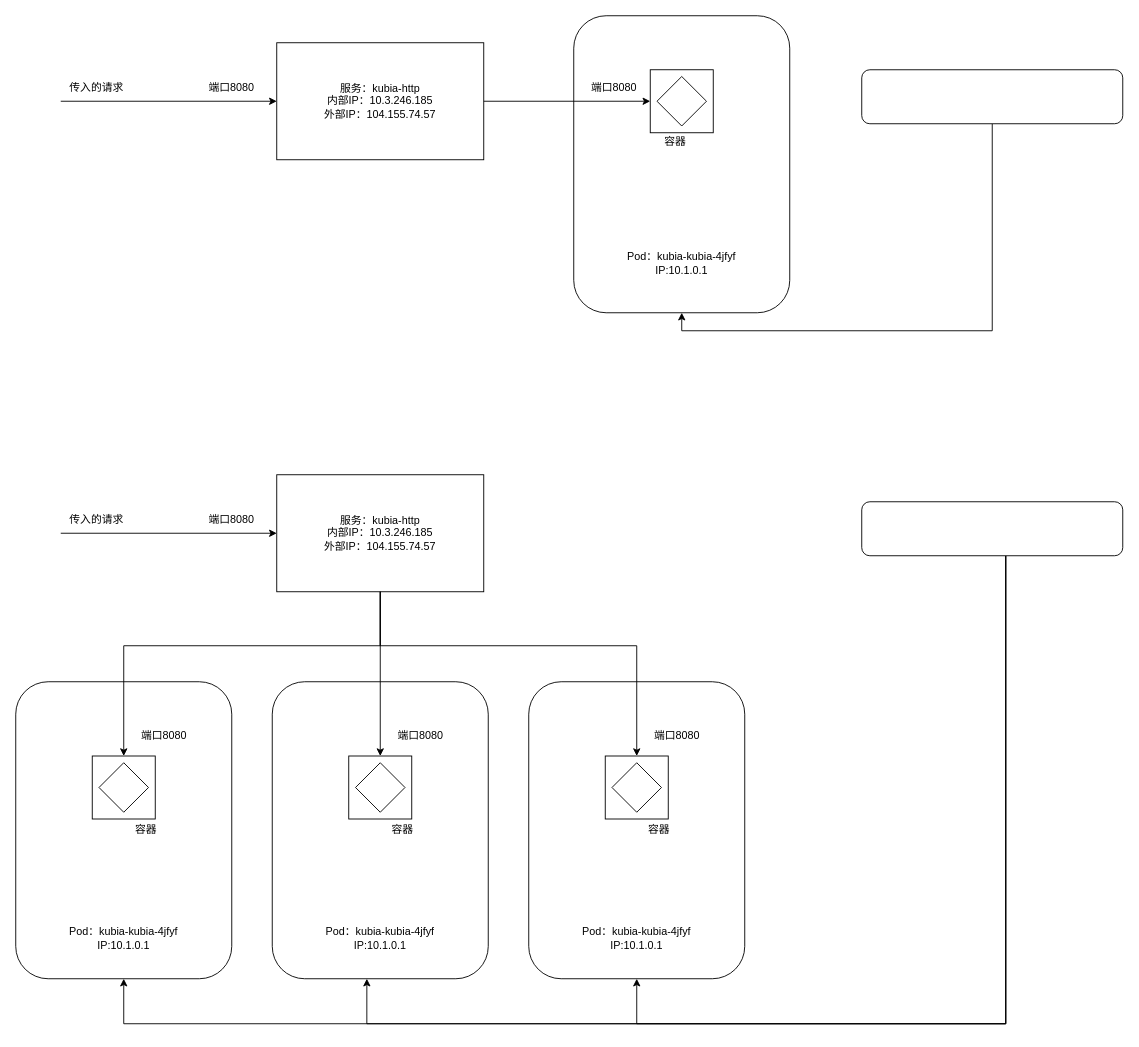
The diagram is 1139 pixels wide and 1047 high, and some of its shapes have lost their labels. The centre of each missing label's shape, as x and y in pixels:
ReplicationController：kubia 副本：1: the point at 992,96
ReplicationController：kubia 副本：3: the point at 992,528
